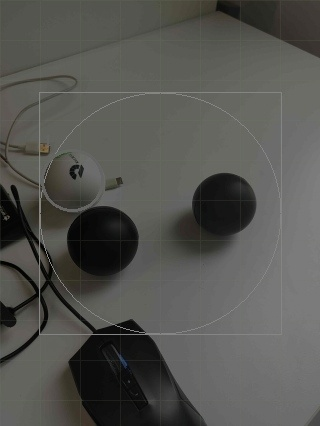Pelota blanca: (215, 0, 320, 57), (0, 260, 44, 357), (42, 148, 105, 214)
Pelota negra: (68, 321, 206, 425), (66, 204, 139, 278), (191, 172, 257, 238)
